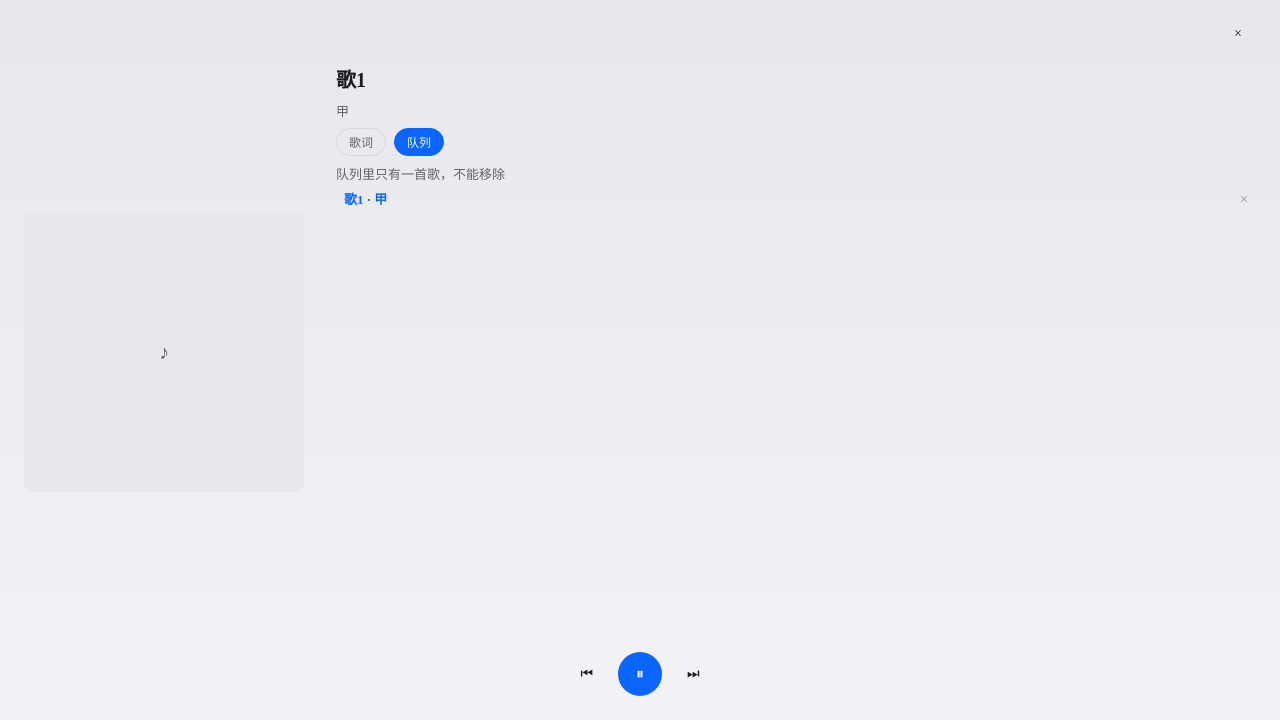
T101：全屏播放页（有声） › ④ 有声曲目 ⇒ **不查歌词**（查了也是白等一轮外部源）；切到歌词页也**如实说明**
The width and height of the screenshot is (1280, 720).
# 就算用户**手动**切到歌词页 ⇒ 如实说明「有声读物没有歌词」（不是「暂无歌词」）。
Click the button "歌词".
click(361, 142)  # box [336,128,386,156]
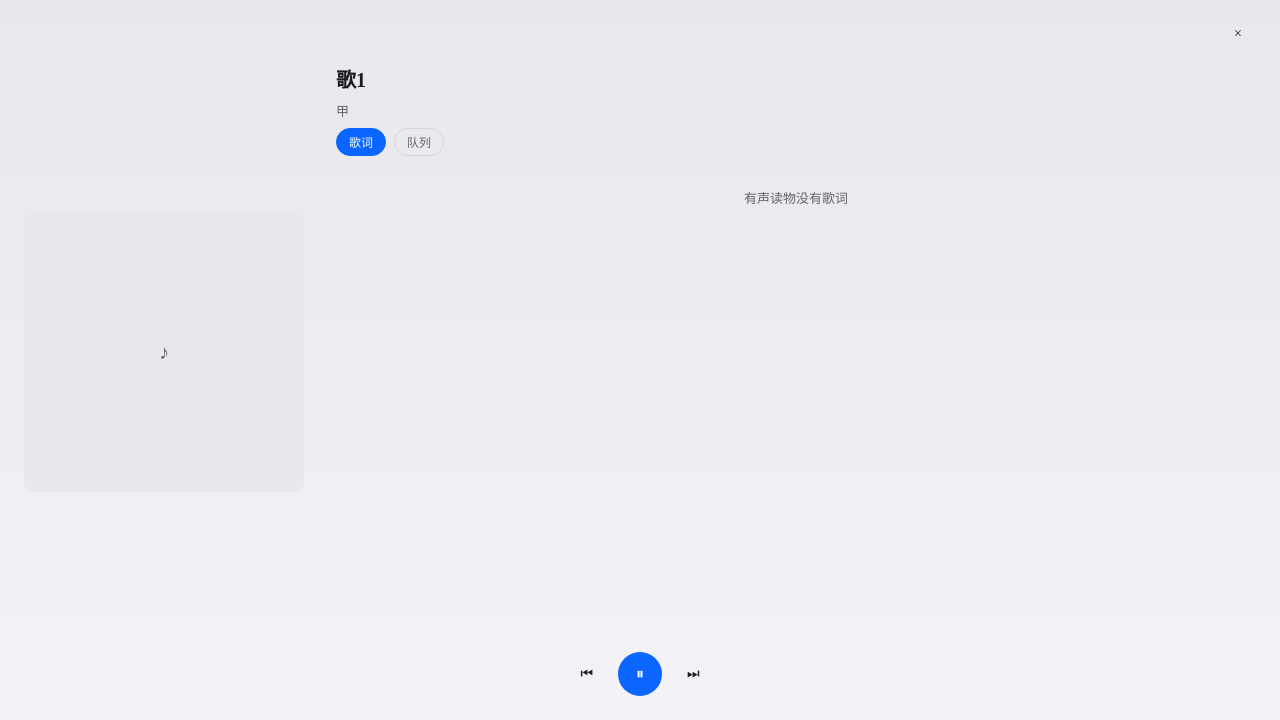
Expected: the text "有声读物没有歌词" is shown, [744,191,848,206]
